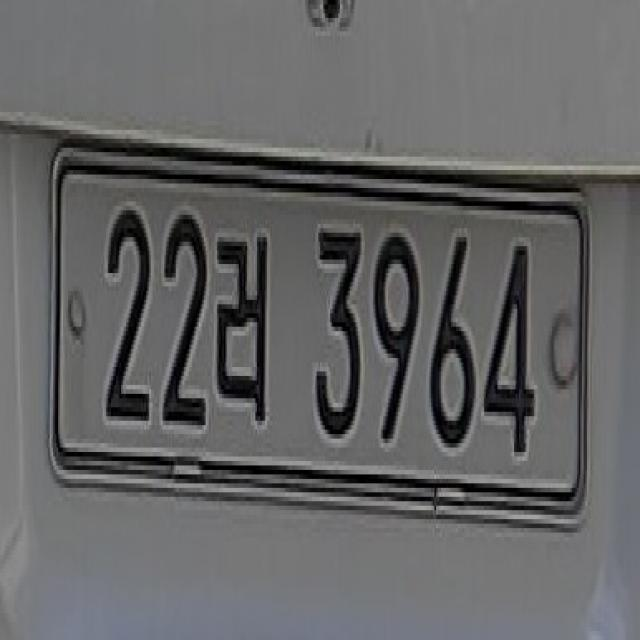2: (97, 194, 156, 432), (159, 197, 213, 437)
3: (306, 214, 368, 454)
4: (485, 232, 545, 464)
6: (427, 221, 483, 462)
9: (370, 224, 425, 454)
leo: (215, 211, 280, 442)
license_plate: (59, 175, 579, 491)
